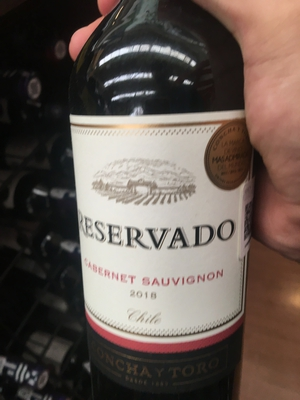reservado cabernet sauvignon: (63, 12, 260, 400)
